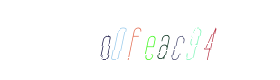0: (99, 0, 179, 80)
4: (140, 0, 220, 80)
9: (135, 0, 215, 80)
A: (112, 0, 192, 80)
C: (115, 0, 195, 80)
E: (110, 0, 190, 80)
F: (108, 0, 188, 80)
O: (97, 0, 177, 80)
